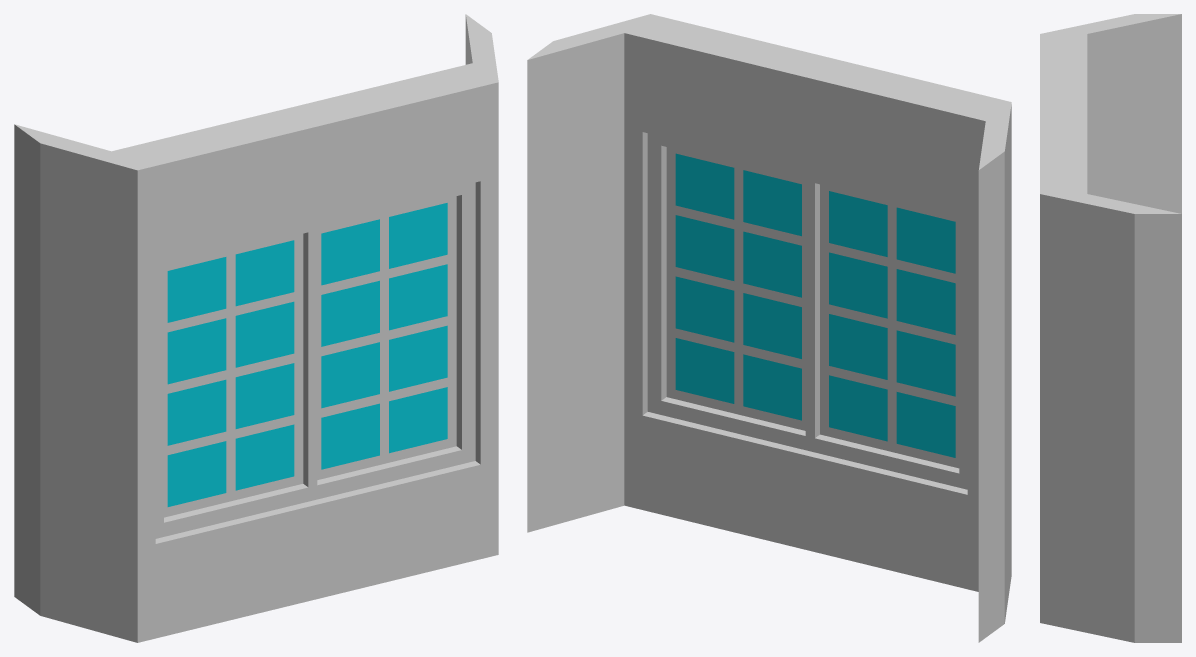
Rendered from window_bay_6.glb.
3 renders of one model, left to right at view 1: azimuth 30°, elevation 25°; view 2: azimuth 150°, elevation 25°; view 3: azimuth 270°, elevation 25°, orthographic. The views are drawn at different scales.
Parts seen in each view (by area): view 1: window_bay_6; view 2: window_bay_6; view 3: window_bay_6.
Part boxes in pixels (bbox=[...]): window_bay_6: bbox=[14, 14, 498, 642]; window_bay_6: bbox=[527, 14, 1011, 642]; window_bay_6: bbox=[1040, 14, 1181, 642].
Bounding box in the file's own units: 1 × 1 × 0.3.
